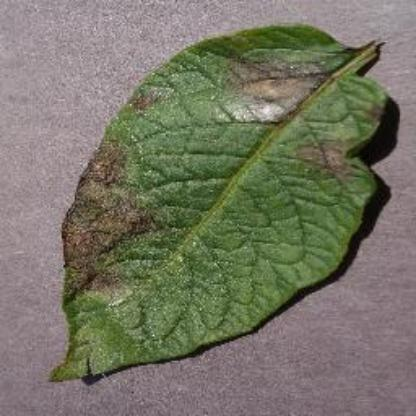Late-Blight: (43, 16, 393, 386)
